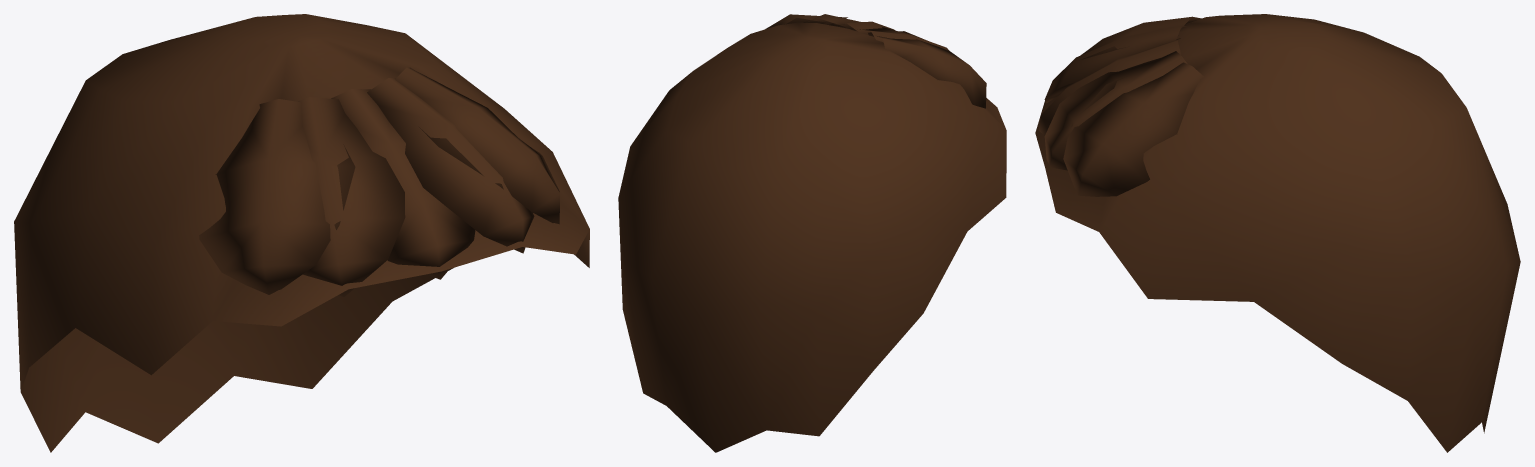
File: hair_m_raspado.glb
3 renders of one model, left to right at view 1: azimuth 30°, elevation 25°; view 2: azimuth 150°, elevation 25°; view 3: azimuth 270°, elevation 25°, orthographic. The views are drawn at different scales.
Visible parts, largest first — view 1: HairCap, HairTop; view 2: HairCap, HairTop; view 3: HairCap, HairTop.
Part boxes in pixels (<box>): HairCap: <box>14,14,589,452</box>; HairTop: <box>199,67,559,296</box>; HairCap: <box>618,22,1006,452</box>; HairTop: <box>765,14,986,108</box>; HairCap: <box>1035,14,1520,452</box>; HairTop: <box>1038,16,1204,196</box>.
Size of the model in its own units: 0.1826 by 0.1957 by 0.2123.
